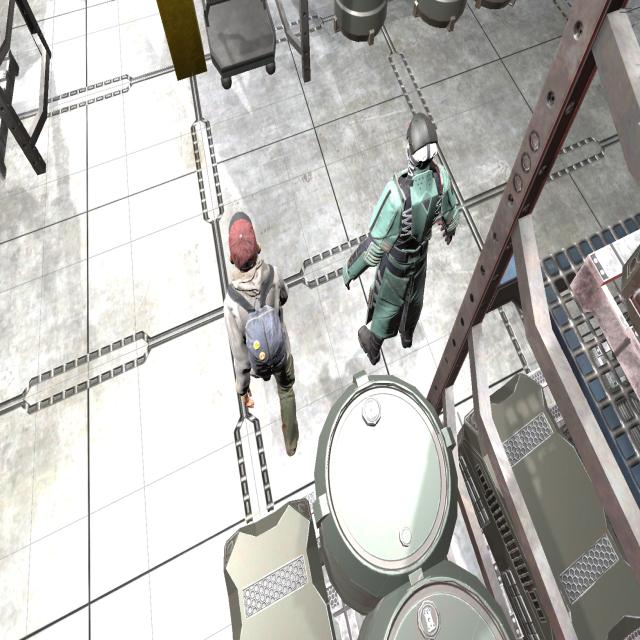thiefs: (214, 204, 303, 465)
